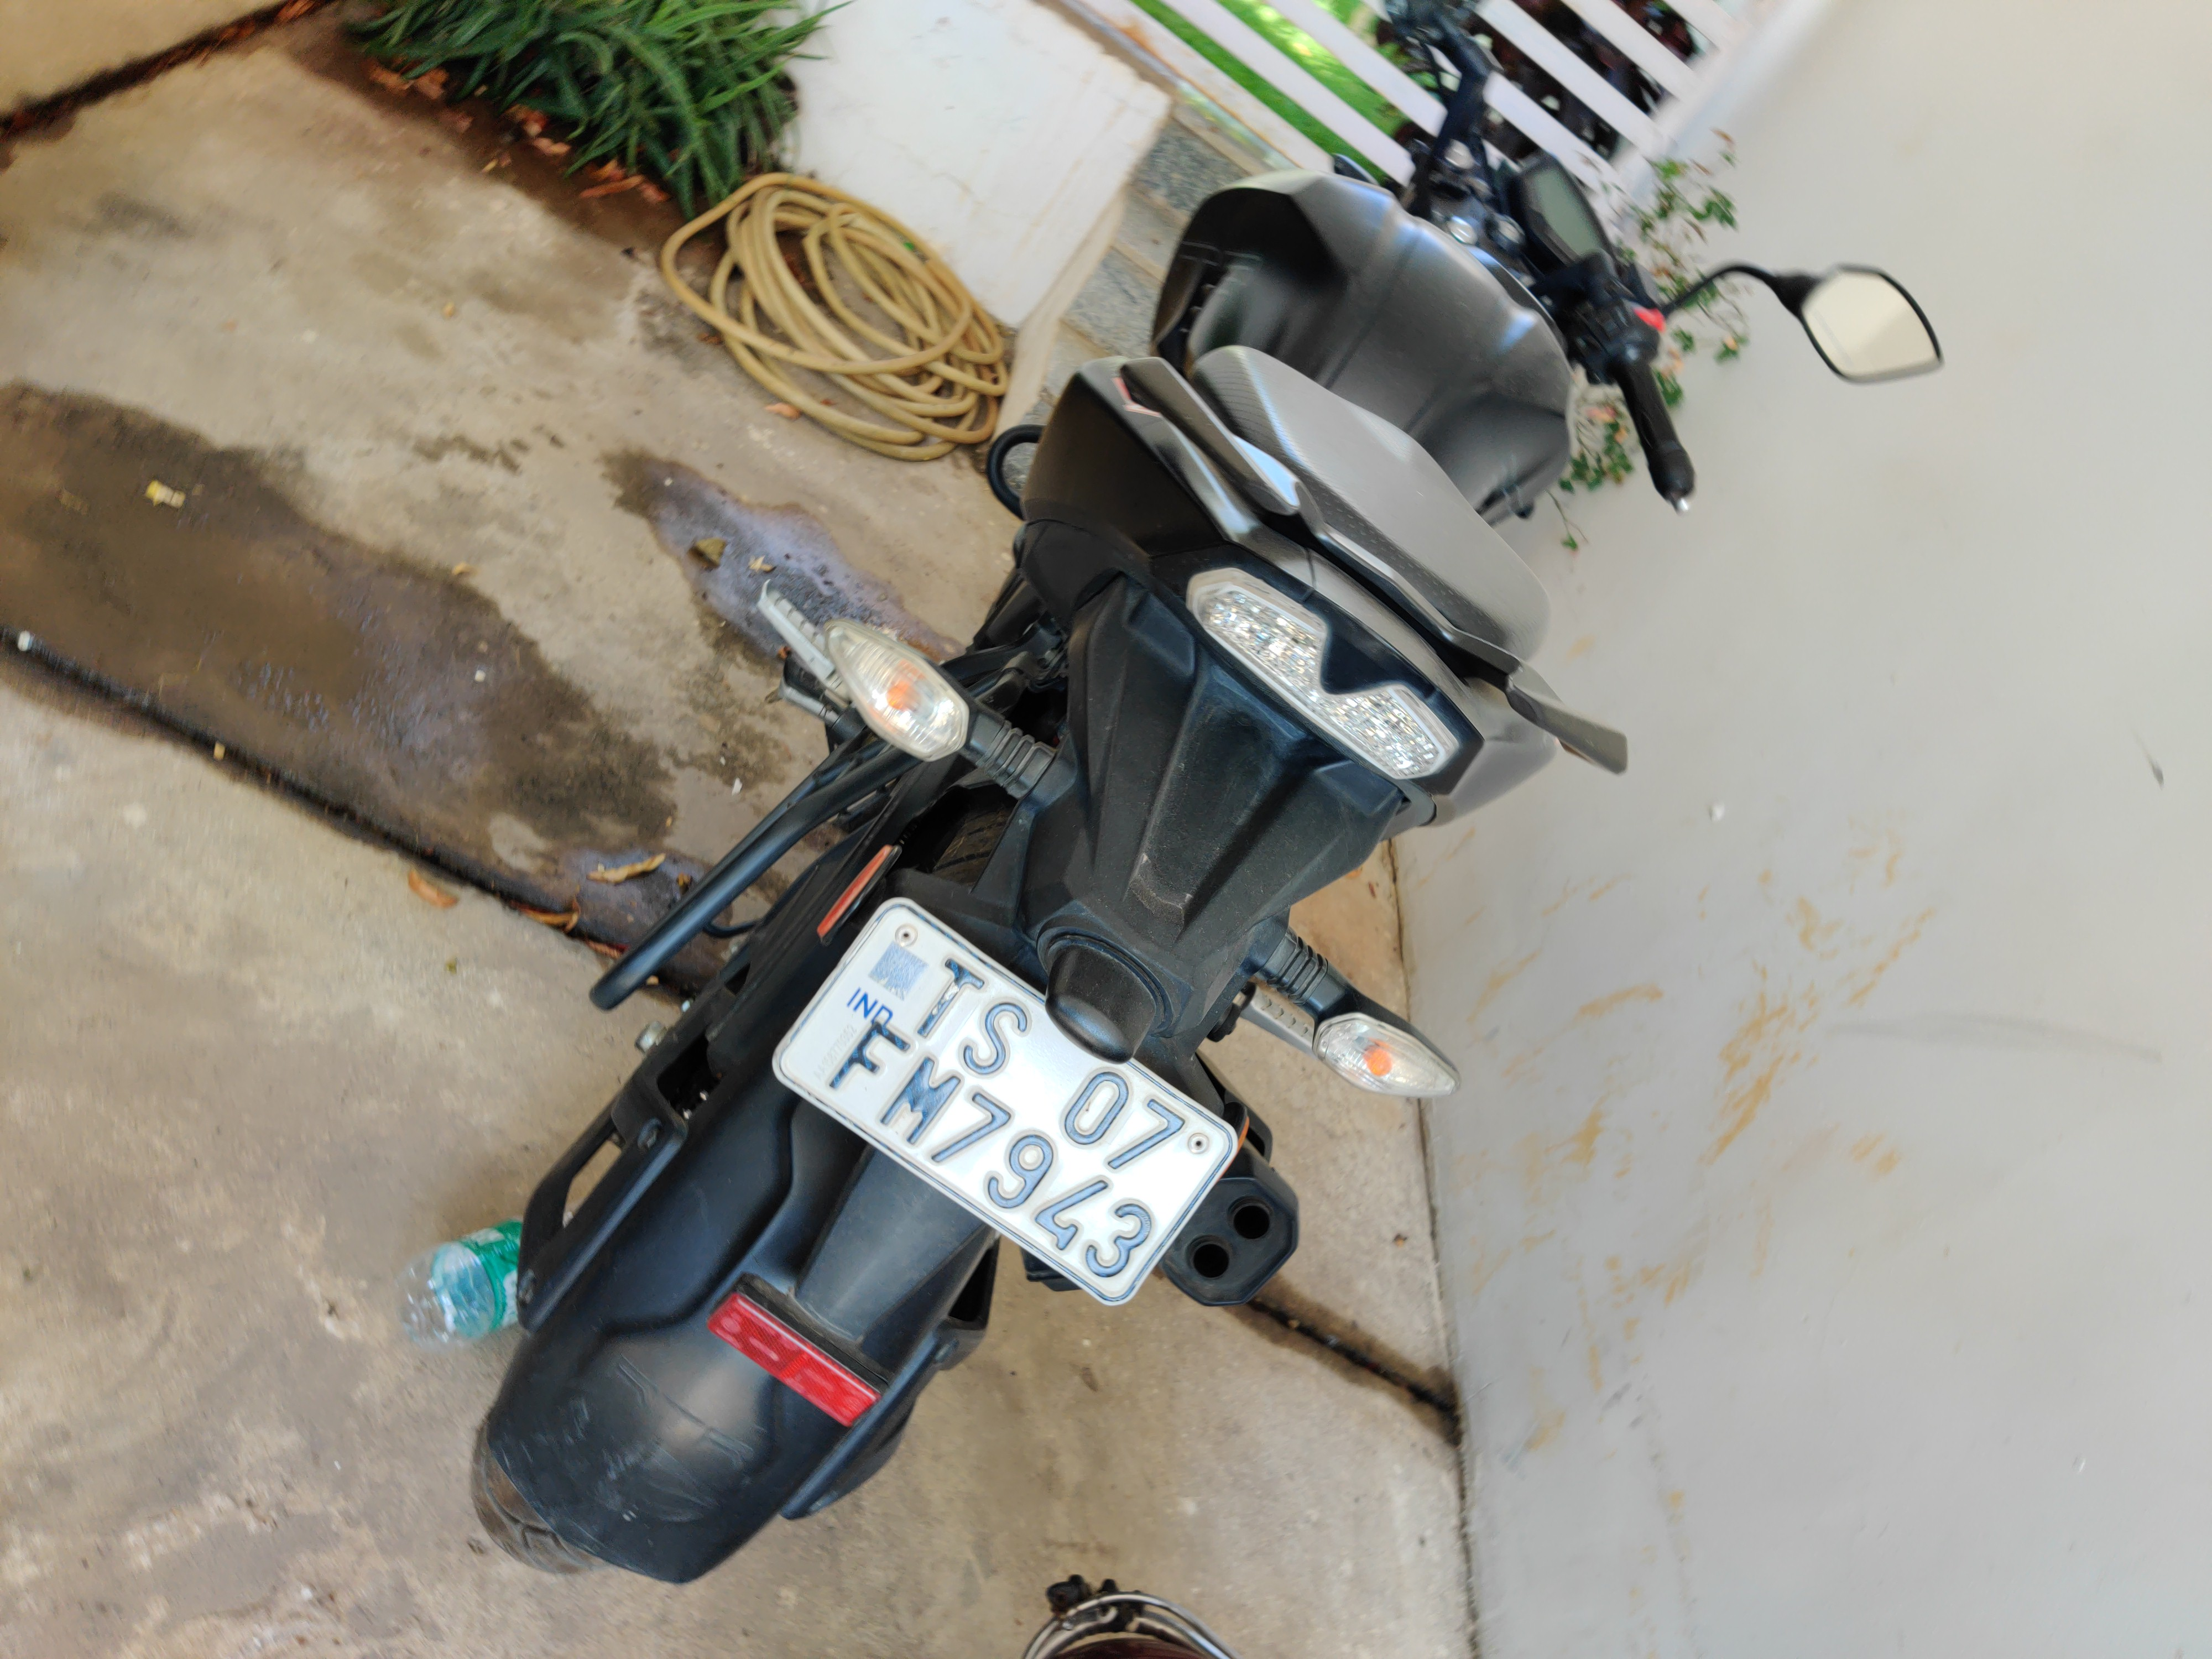plate: (774, 886, 1240, 1320)
